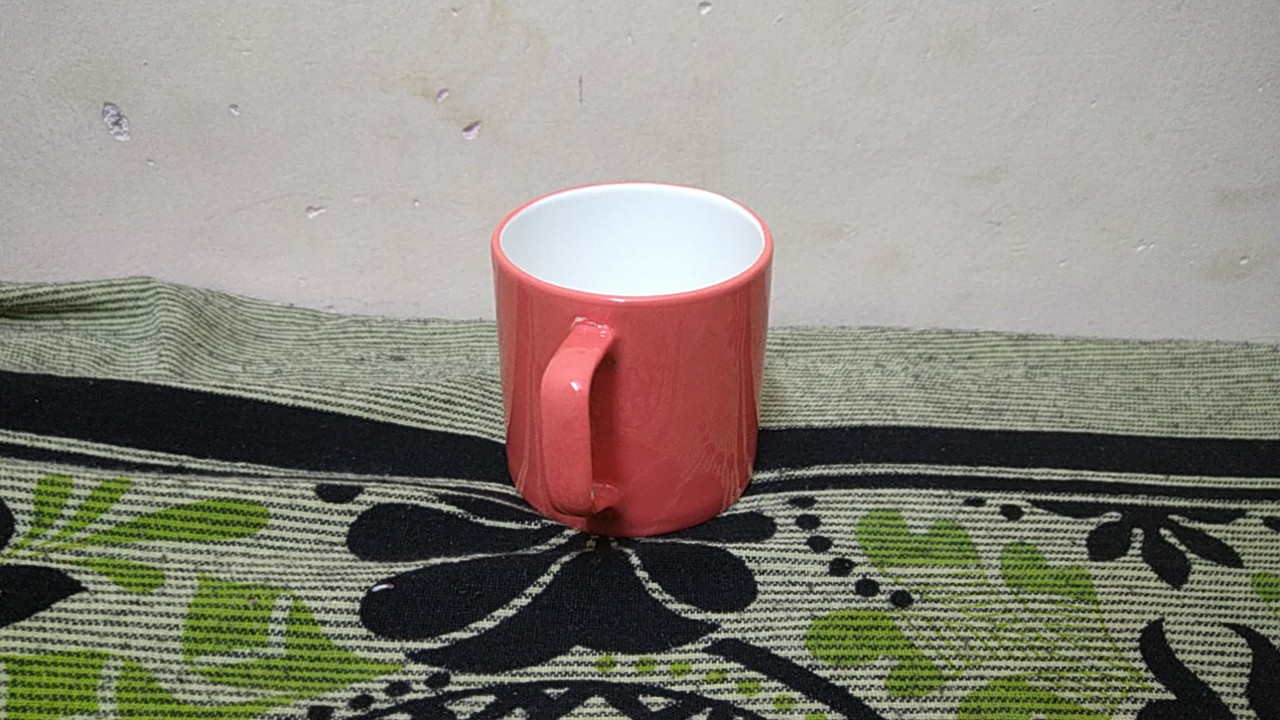cup: (474, 169, 784, 553)
